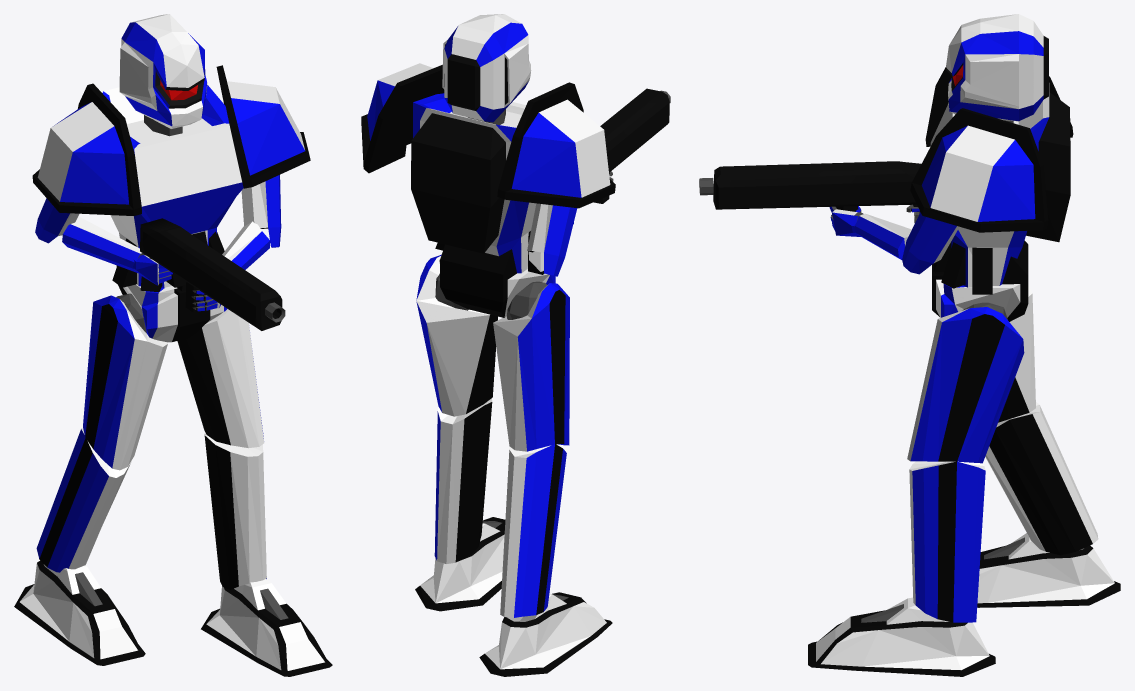
File: robot_animation_000005.obj
The picture shows the model from 3 angles, left to right: view 1: azimuth 30°, elevation 25°; view 2: azimuth 150°, elevation 25°; view 3: azimuth 270°, elevation 25°; orthographic projection. The views are drawn at different scales.
Visible parts, largest first — view 1: Chest_plate_Cube.004, Cube.002_Cube.059, R_Thigh_Cube.005, R_Thigh.002_Cube.027, Head_base_Cube.022, R_Foot_Cube, R_Shin.002_Cube.029, R_Foot.002_Cube.035, Cube_Cube.001, R_Shin_Cube.007, Cube_Cube.021, Pelvis_Cube.006 (+5 smaller); view 2: Chest_plate_Cube.004, Cube.002_Cube.059, R_Thigh_Cube.005, R_Shin_Cube.007, Head_base_Cube.022, R_Thigh.002_Cube.027, R_Shin.002_Cube.029, R_Foot_Cube, Cube_Cube.021, Pelvis_Cube.006, R_Foot.002_Cube.035, Cube_Cube.001 (+2 smaller); view 3: Cube_Cube.021, R_Thigh.002_Cube.027, R_Shin.002_Cube.029, R_Foot.002_Cube.035, R_Shin_Cube.007, Head_base_Cube.022, Cube_Cube.001, Chest_plate_Cube.004, R_Foot_Cube, Pelvis_Cube.006, R_Thigh_Cube.005, L_Arm_Cube.014 (+3 smaller).
Boxes of the visible parts, <box> form: Chest_plate_Cube.004: <box>102,85,243,292</box>; Cube.002_Cube.059: <box>32,83,141,215</box>; R_Thigh_Cube.005: <box>83,295,167,470</box>; R_Thigh.002_Cube.027: <box>177,309,264,448</box>; Head_base_Cube.022: <box>119,14,207,128</box>; R_Foot_Cube: <box>14,560,145,665</box>; R_Shin.002_Cube.029: <box>204,433,266,589</box>; R_Foot.002_Cube.035: <box>201,579,332,676</box>; Cube_Cube.001: <box>140,218,285,330</box>; R_Shin_Cube.007: <box>36,428,131,572</box>; Cube_Cube.021: <box>216,65,310,188</box>; Pelvis_Cube.006: <box>116,265,226,342</box>; Chest_plate_Cube.004: <box>411,93,544,274</box>; Cube.002_Cube.059: <box>497,82,615,208</box>; R_Thigh_Cube.005: <box>493,283,569,451</box>; R_Shin_Cube.007: <box>500,444,566,617</box>; Head_base_Cube.022: <box>442,14,531,122</box>; R_Thigh.002_Cube.027: <box>416,254,497,416</box>; R_Shin.002_Cube.029: <box>434,398,492,563</box>; R_Foot_Cube: <box>479,592,612,676</box>; Cube_Cube.021: <box>361,63,444,173</box>; Pelvis_Cube.006: <box>439,244,555,317</box>; R_Foot.002_Cube.035: <box>415,517,505,611</box>; Cube_Cube.001: <box>593,88,670,203</box>; Cube_Cube.021: <box>910,108,1048,232</box>; R_Thigh.002_Cube.027: <box>907,307,1024,463</box>; R_Shin.002_Cube.029: <box>909,461,985,622</box>; R_Foot.002_Cube.035: <box>808,597,995,676</box>; R_Shin_Cube.007: <box>985,402,1098,555</box>; Head_base_Cube.022: <box>946,14,1048,121</box>; Cube_Cube.001: <box>699,161,921,212</box>; Chest_plate_Cube.004: <box>930,83,1070,294</box>; R_Foot_Cube: <box>977,533,1120,607</box>; Pelvis_Cube.006: <box>932,240,1028,321</box>; R_Thigh_Cube.005: <box>998,284,1035,422</box>; L_Arm_Cube.014: <box>902,212,959,274</box>.
Bounding box in the file's own units: 1.32 × 3.03 × 1.89.
